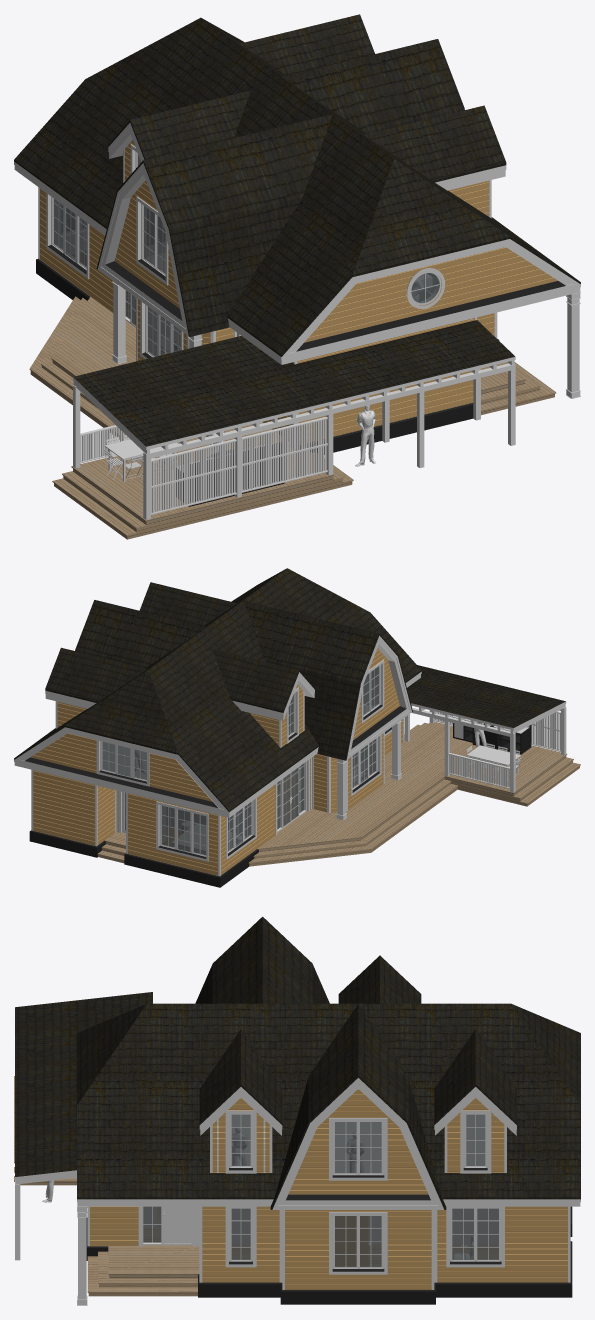
Rendered from suburban-bogdan-y270.glb.
3 renders of one model, top to bottom at view 1: azimuth 30°, elevation 25°; view 2: azimuth 150°, elevation 25°; view 3: azimuth 270°, elevation 25°, orthographic. The views are drawn at different scales.
Parts seen in each view (by area): view 1: roof, white, siding, floor, gray, glass; view 2: roof, white, siding, floor, glass, gray; view 3: roof, siding, white, glass, gray, floor.
Boxes of the visible parts, left/top/right/bottom form: roof: left=14, top=14, right=580, bottom=446; white: left=14, top=122, right=580, bottom=519; siding: left=40, top=140, right=557, bottom=444; floor: left=29, top=253, right=556, bottom=539; gray: left=36, top=245, right=565, bottom=506; glass: left=54, top=154, right=439, bottom=356; roof: left=14, top=568, right=565, bottom=811; white: left=14, top=635, right=566, bottom=876; siding: left=30, top=648, right=402, bottom=875; floor: left=34, top=721, right=580, bottom=875; glass: left=102, top=666, right=378, bottom=855; gray: left=25, top=705, right=531, bottom=887; roof: left=15, top=916, right=580, bottom=1209; siding: left=90, top=1089, right=567, bottom=1289; white: left=15, top=1078, right=580, bottom=1305; glass: left=143, top=1114, right=498, bottom=1267; gray: left=86, top=1168, right=572, bottom=1304; floor: left=14, top=1076, right=498, bottom=1296.
Bounding box in the file's own units: 15.58 × 7.45 × 16.43.
Materials: 6 (2 with a texture image).
